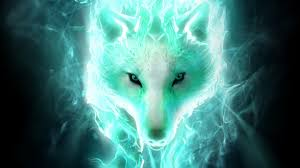Lobo: (77, 1, 230, 149)
